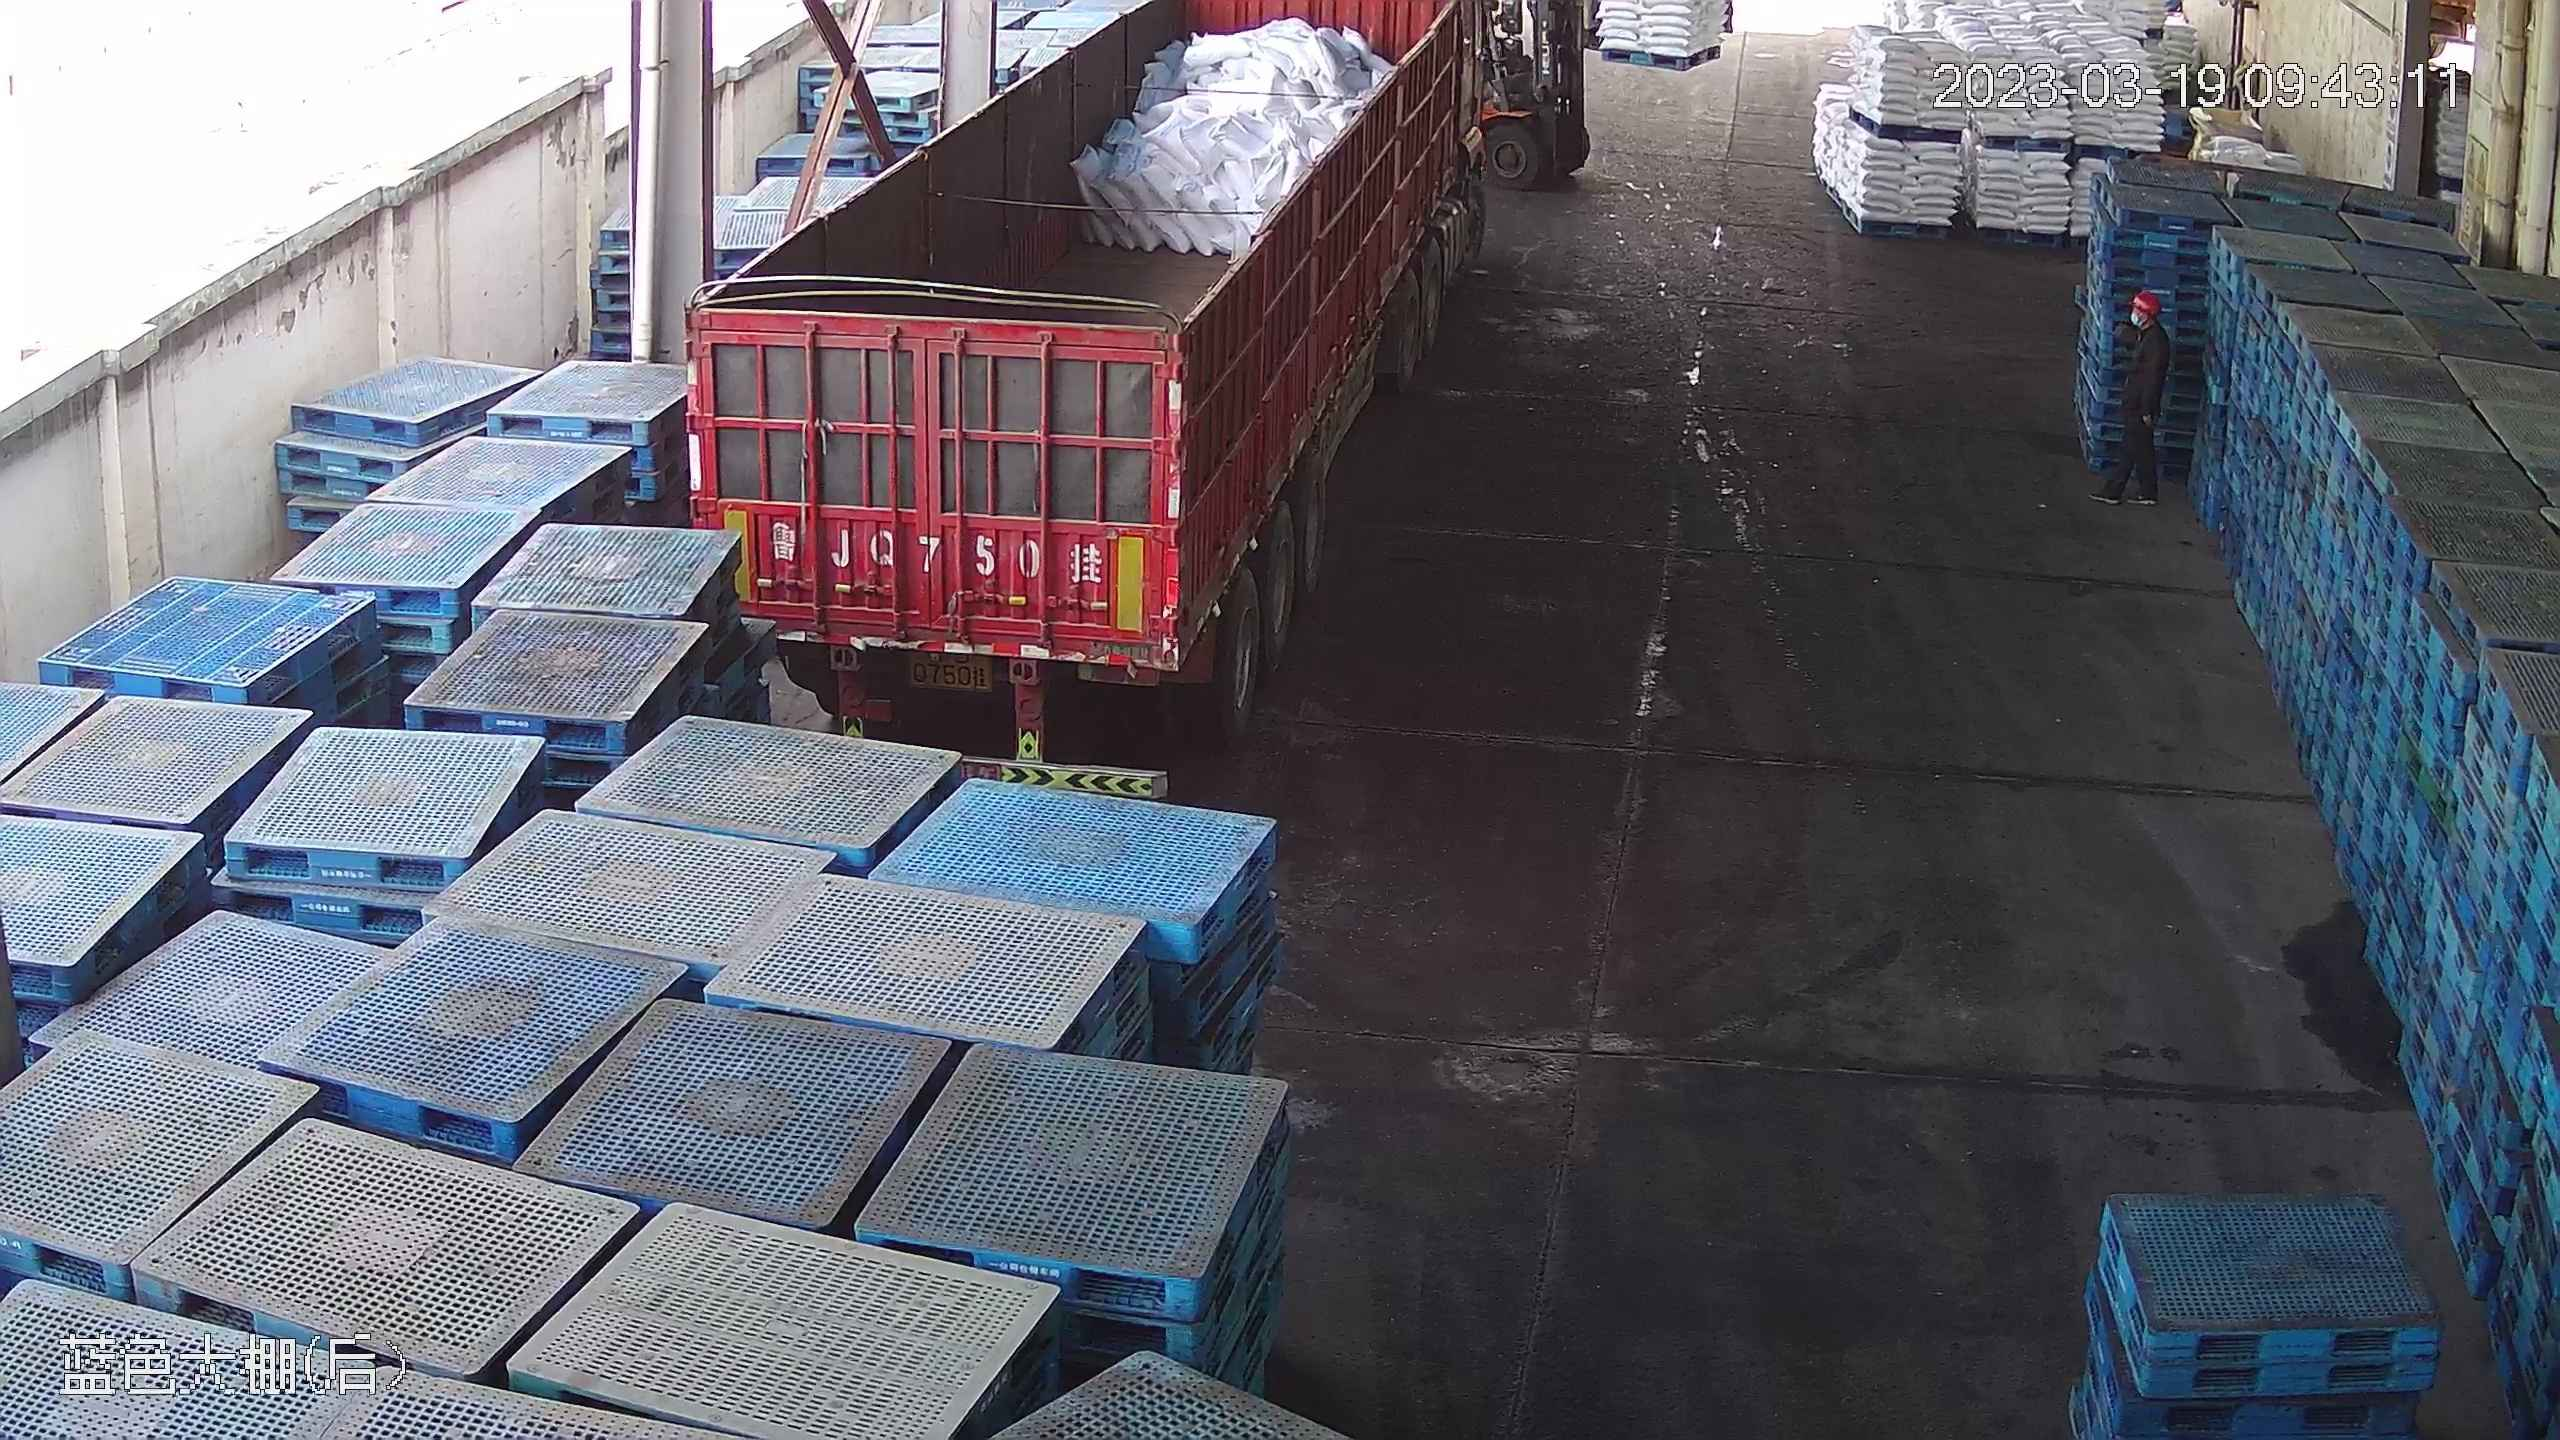head: (2116, 285, 2167, 354)
helmet: (2129, 287, 2162, 312)
people: (2102, 281, 2171, 507)
truck: (702, 0, 1568, 782)
